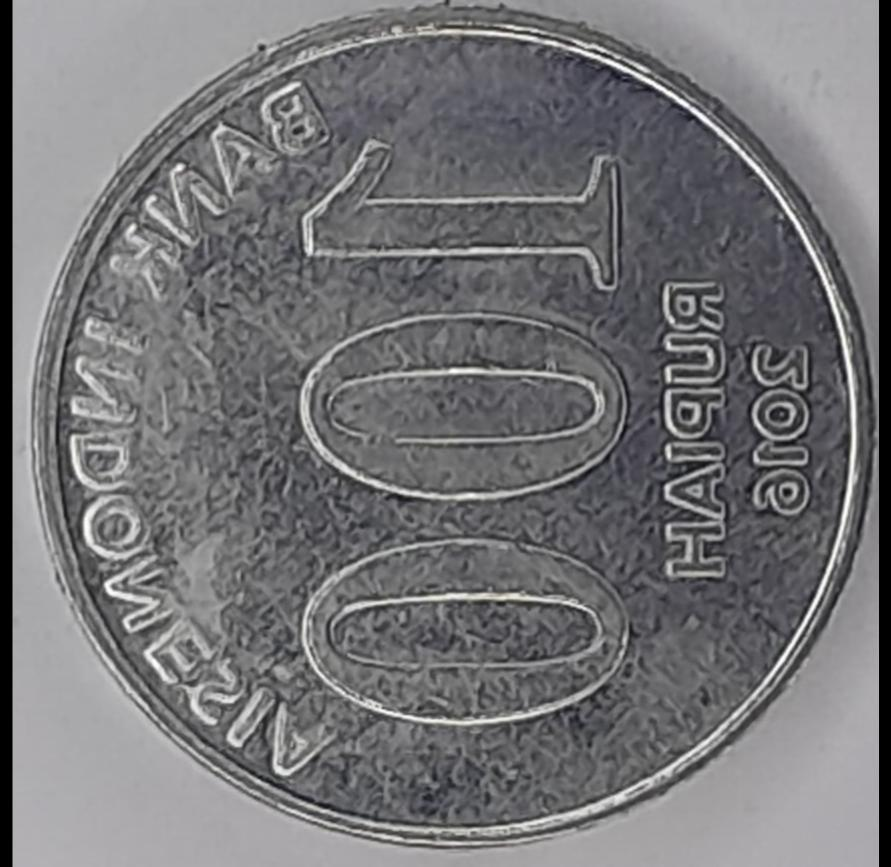coin_100_e2016: (25, 0, 880, 850)
